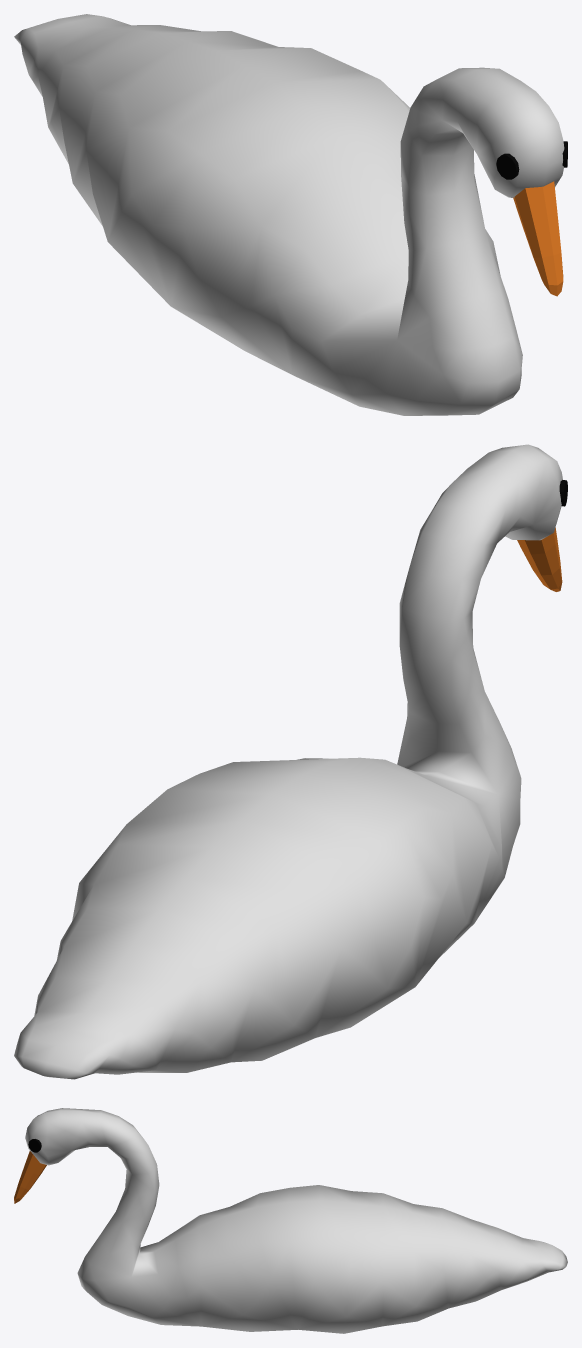
The model's file is swan.fbx.
3 views of the same model, one above another, from view 1: azimuth 30°, elevation 25°; view 2: azimuth 150°, elevation 25°; view 3: azimuth 270°, elevation 25° (orthographic). The views are drawn at different scales.
Parts seen in each view (by area): view 1: Plane, Plane.001; view 2: Plane, Plane.001; view 3: Plane, Plane.001.
Boxes of the visible parts, <box> form: Plane: <box>14,14,564,415</box>; Plane.001: <box>513,181,563,296</box>; Plane: <box>14,444,562,1079</box>; Plane.001: <box>517,527,562,591</box>; Plane: <box>25,1108,567,1333</box>; Plane.001: <box>14,1151,46,1203</box>.
Bounding box in the file's own units: 144 × 178 × 430.
